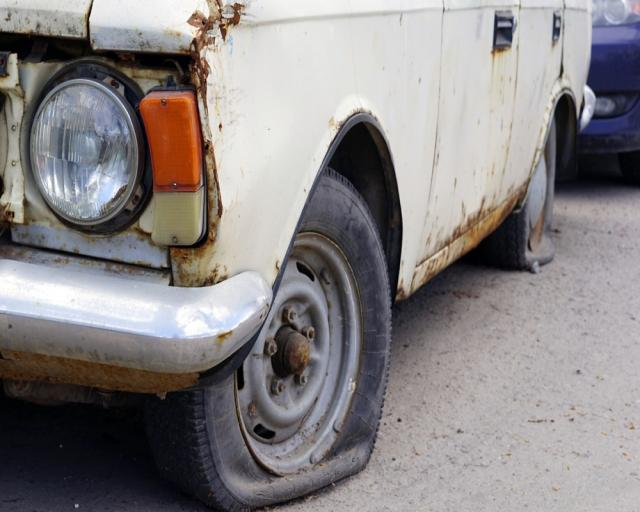tire flat: (180, 171, 393, 512), (500, 115, 555, 270)
